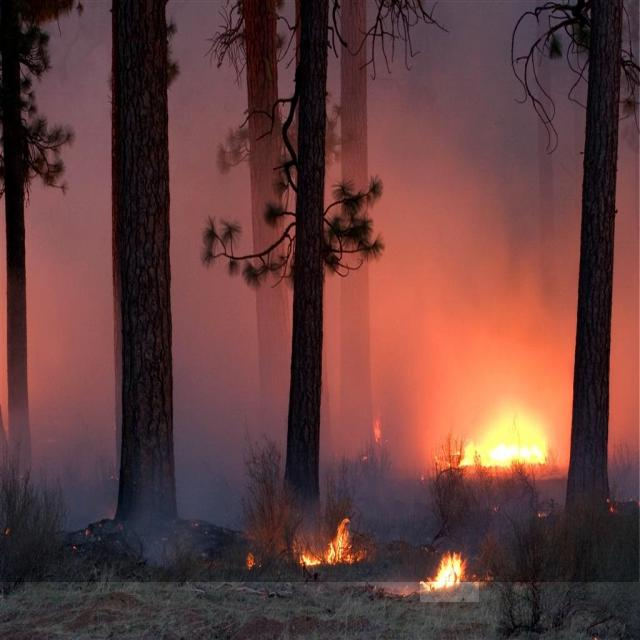Fire: (258, 522, 362, 577), (455, 416, 551, 471), (420, 547, 479, 602)
Smoke: (0, 0, 639, 582)
